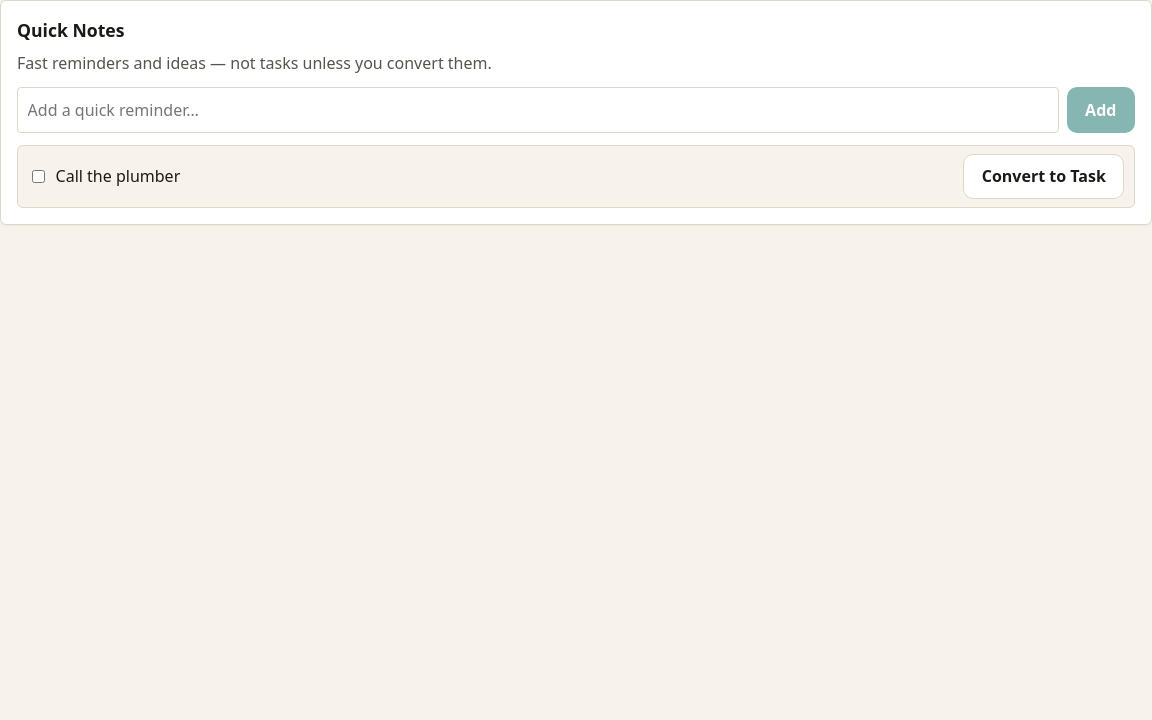
Test case: QuickNotesSection — Convert to Task › opens the task form pre-filled with the note's text
Click the button "Convert to Task" at (1044, 176), box top-left (963, 154), bottom-right (1124, 199)
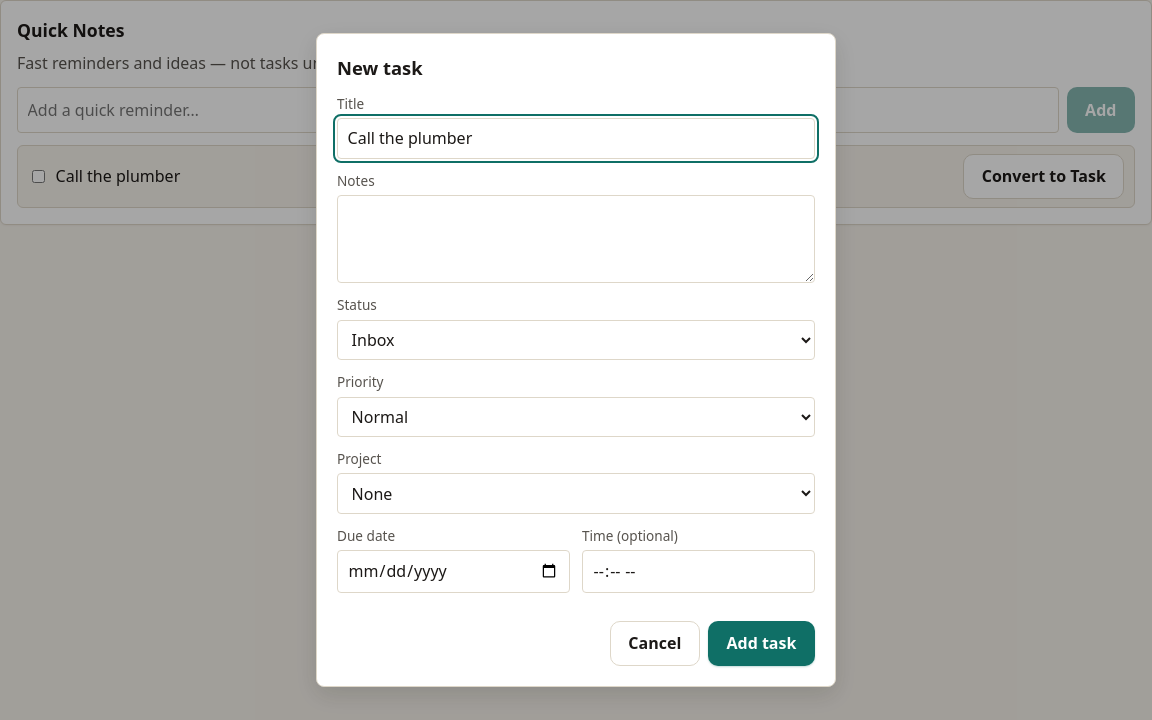
expect the field labelled "Title" holds "Call the plumber": met, box top-left (337, 118), bottom-right (815, 159)
